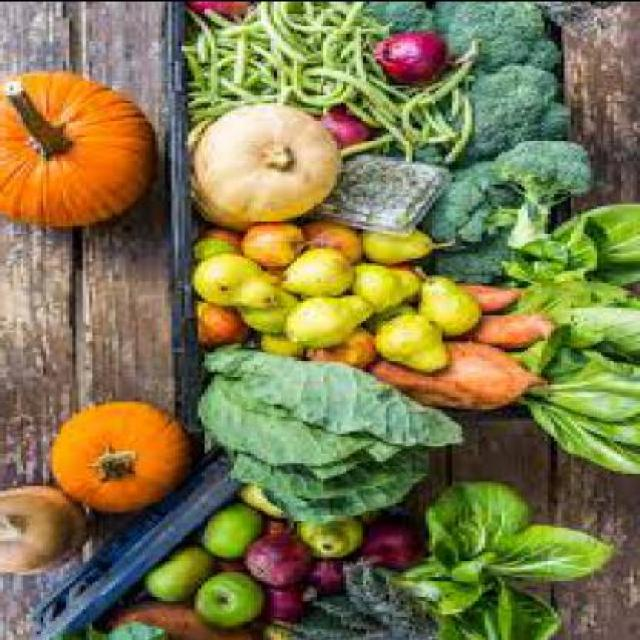BIODEGRADABLE: (198, 341, 472, 514), (392, 476, 617, 638), (3, 69, 162, 228), (524, 300, 638, 469), (196, 100, 346, 222), (53, 394, 201, 512), (511, 200, 638, 309), (379, 336, 555, 406), (300, 552, 442, 638), (458, 59, 574, 164), (323, 146, 459, 232), (498, 136, 597, 247), (429, 158, 528, 247), (439, 2, 566, 68), (488, 517, 617, 578), (3, 482, 92, 568), (112, 600, 263, 638), (254, 2, 311, 98), (379, 300, 456, 368), (191, 47, 277, 104), (438, 224, 518, 282), (423, 257, 485, 331), (198, 251, 280, 304), (290, 292, 376, 341), (148, 540, 218, 598), (198, 566, 267, 623), (241, 269, 310, 326), (367, 502, 428, 566), (379, 27, 448, 82), (201, 499, 267, 556), (251, 528, 317, 584), (294, 27, 340, 107), (423, 40, 482, 102), (366, 224, 462, 262), (284, 244, 356, 294), (403, 84, 462, 145), (468, 309, 561, 346), (356, 257, 422, 309), (293, 511, 370, 554), (340, 29, 383, 106), (369, 84, 418, 148), (188, 7, 264, 47), (380, 310, 446, 356), (244, 220, 310, 265), (291, 0, 395, 28), (313, 321, 379, 364), (442, 82, 478, 158), (347, 101, 399, 150), (66, 614, 171, 638), (307, 215, 365, 258), (201, 297, 254, 343), (255, 586, 313, 626), (324, 104, 376, 148), (317, 551, 360, 594), (370, 0, 436, 28), (241, 479, 293, 512), (462, 282, 528, 306), (194, 224, 243, 256), (261, 329, 310, 356), (191, 0, 257, 15), (264, 614, 301, 638), (217, 553, 251, 569)
